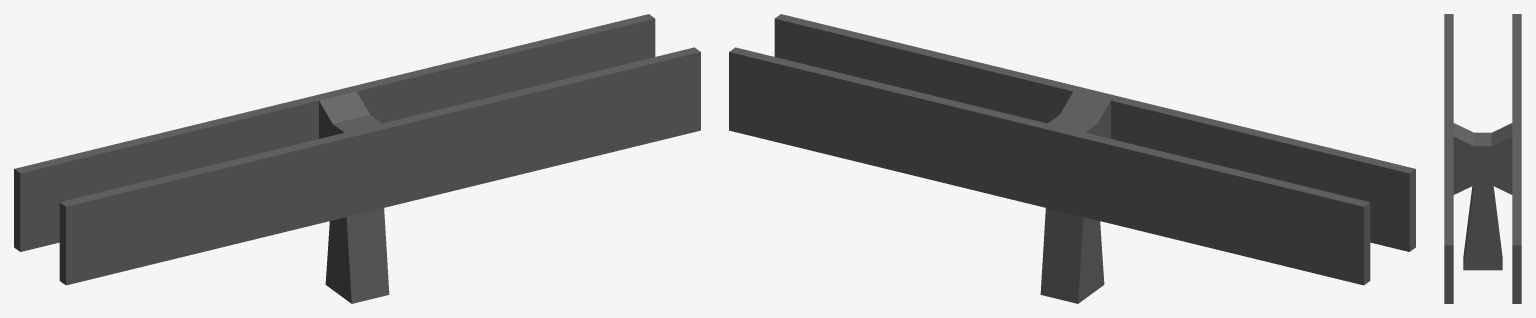
File: TrafficBarrier.fbx
3 views of the same model, side by side, from view 1: azimuth 30°, elevation 25°; view 2: azimuth 150°, elevation 25°; view 3: azimuth 270°, elevation 25° (orthographic). The views are drawn at different scales.
Visible parts, largest first — view 1: Cube; view 2: Cube; view 3: Cube.
Boxes of the visible parts, box(x1,y1,x2,y2) form: Cube: box(14, 14, 700, 303); Cube: box(729, 14, 1415, 303); Cube: box(1444, 14, 1521, 303).
Size of the model in its own units: 400 by 108 by 56.64.
